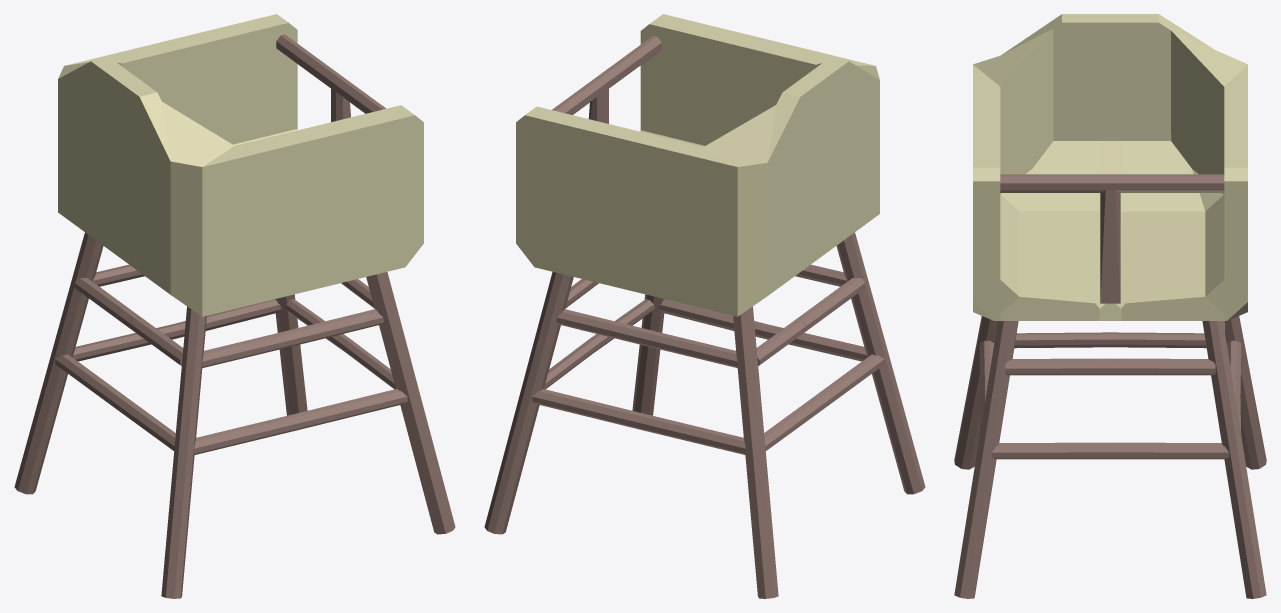
The model's file is BabyChair.fbx.
3 renders of one model, left to right at view 1: azimuth 30°, elevation 25°; view 2: azimuth 150°, elevation 25°; view 3: azimuth 270°, elevation 25°, orthographic.
Parts seen in each view (by area): view 1: BabyChair; view 2: BabyChair; view 3: BabyChair.
Part boxes in pixels (x1,y1,x2,y2): BabyChair: [14, 14, 455, 598]; BabyChair: [484, 14, 925, 598]; BabyChair: [954, 14, 1266, 598].
Size of the model in its own units: 97.03 by 90.68 by 147.
